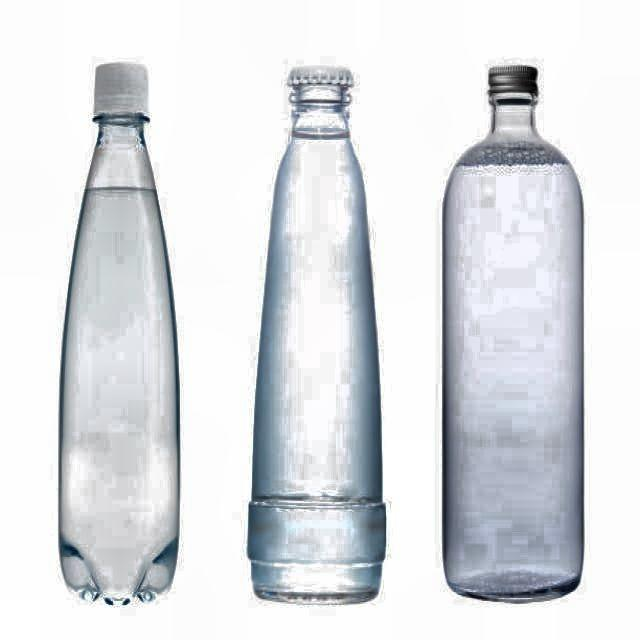glass: (442, 64, 587, 605), (247, 66, 387, 606), (58, 62, 182, 608)
